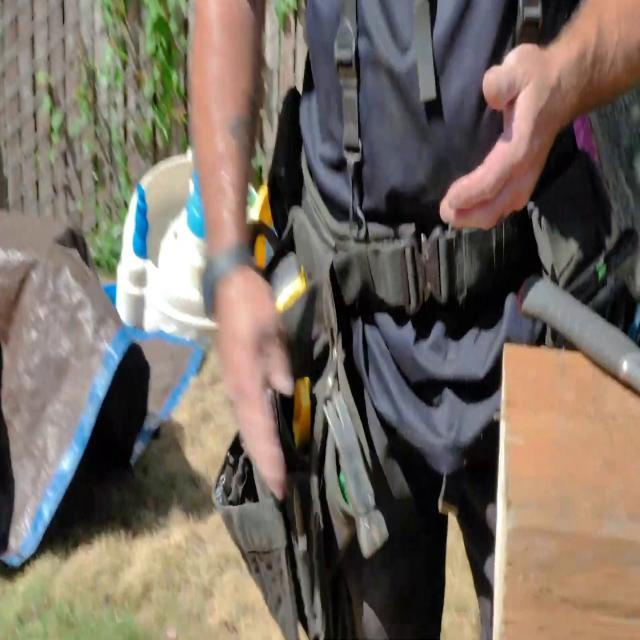hammer: (325, 398, 390, 560)
